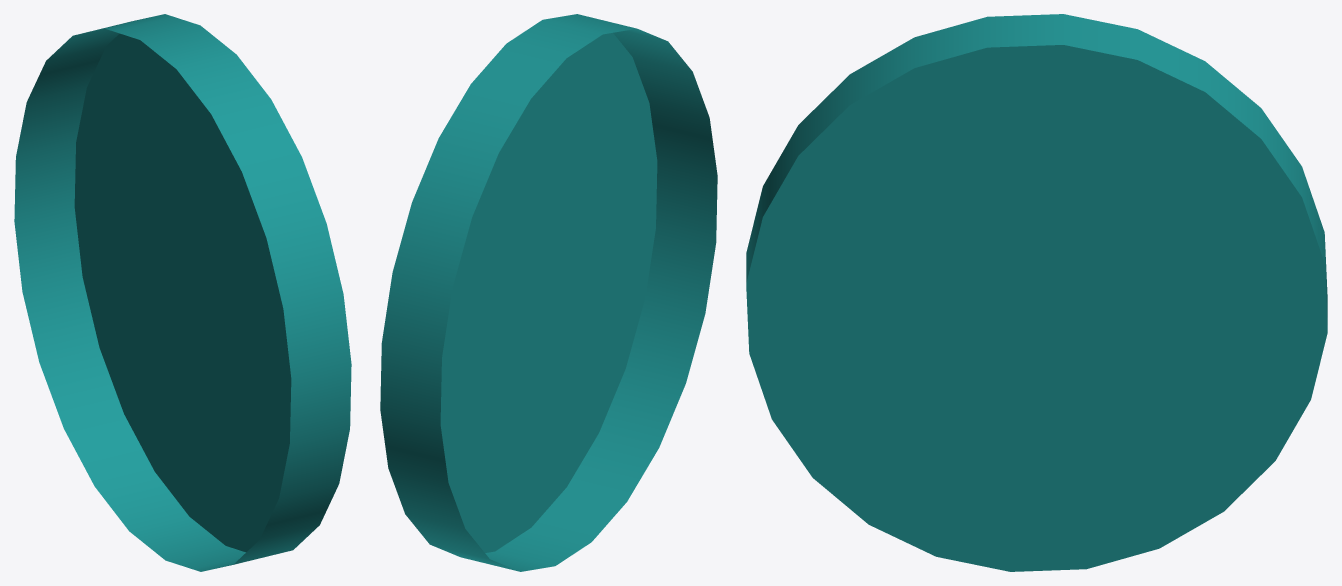
File: original-26.obj
3 views of the same model, side by side, from view 1: azimuth 30°, elevation 25°; view 2: azimuth 150°, elevation 25°; view 3: azimuth 270°, elevation 25° (orthographic). The views are drawn at different scales.
Parts seen in each view (by area): view 1: #ID217; view 2: #ID217; view 3: #ID217.
Part boxes in pixels (bbox=[...]): #ID217: bbox=[14, 14, 351, 571]; #ID217: bbox=[380, 14, 717, 571]; #ID217: bbox=[746, 14, 1327, 571].
Bounding box in the file's own units: 0.0113 × 0.0897 × 0.0897.
